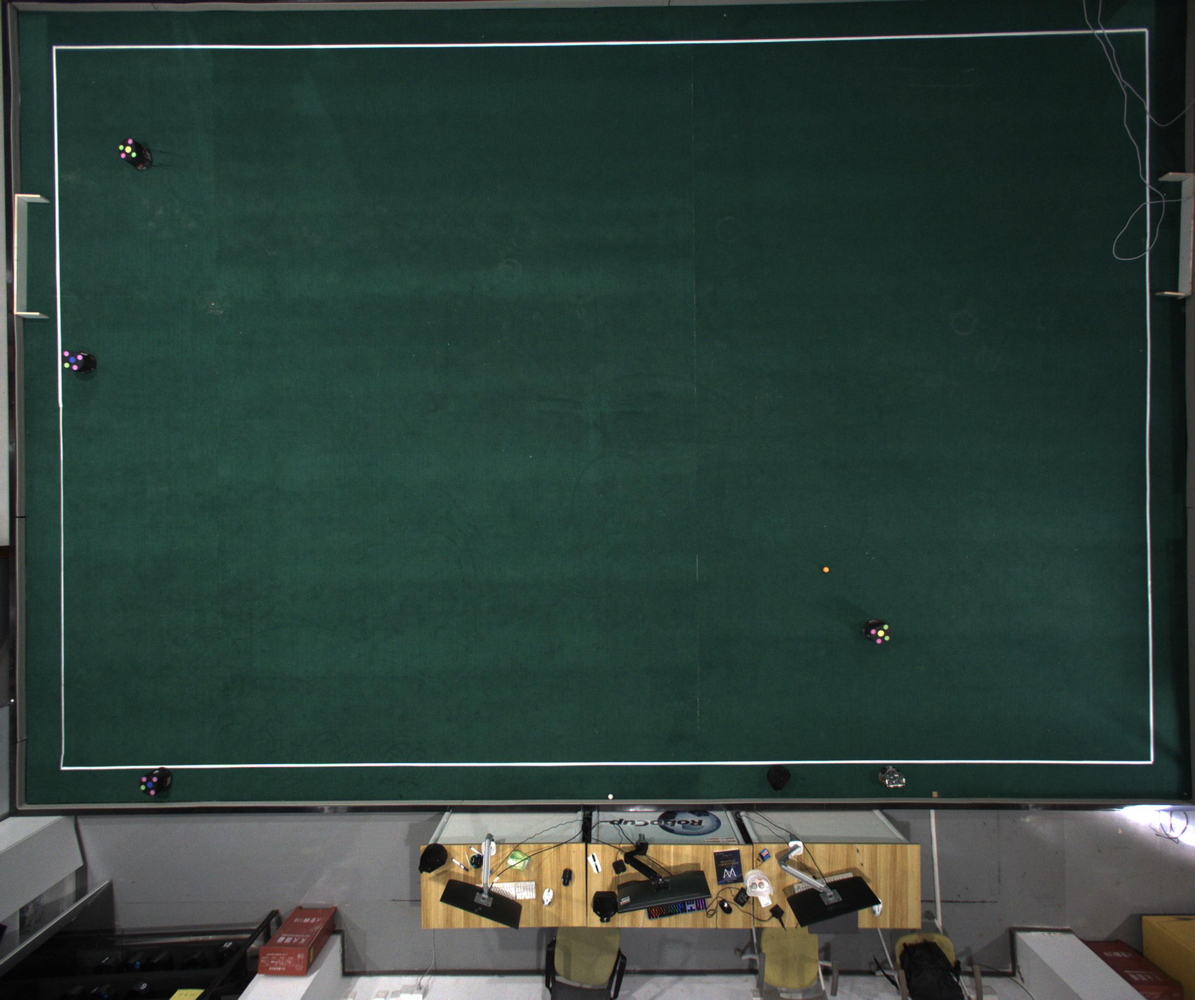ball: (824, 566, 829, 573)
blue_bot: (62, 350, 84, 371), (140, 775, 159, 796)
yellow_bot: (871, 624, 891, 644), (119, 138, 137, 160)
